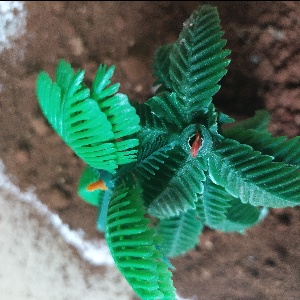plant: (33, 32, 274, 300)
